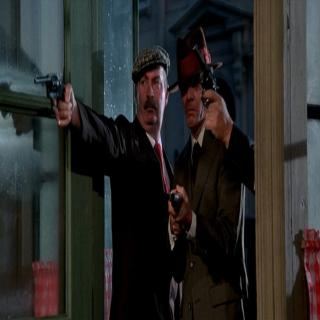gun: (190, 45, 226, 138), (32, 65, 72, 130)
